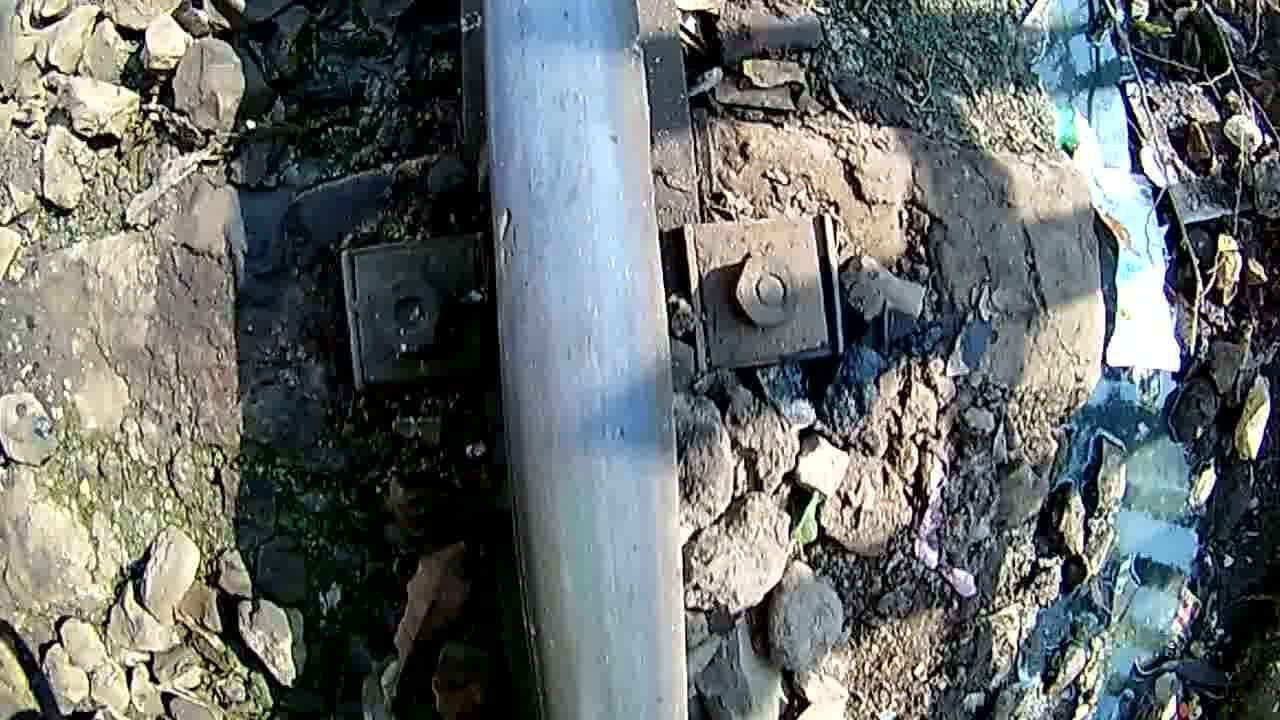crack: (478, 0, 688, 720)
